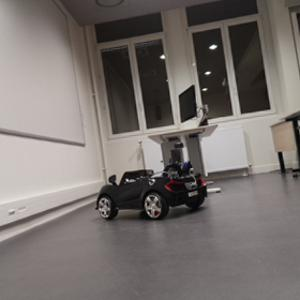big: (92, 162, 210, 221)
